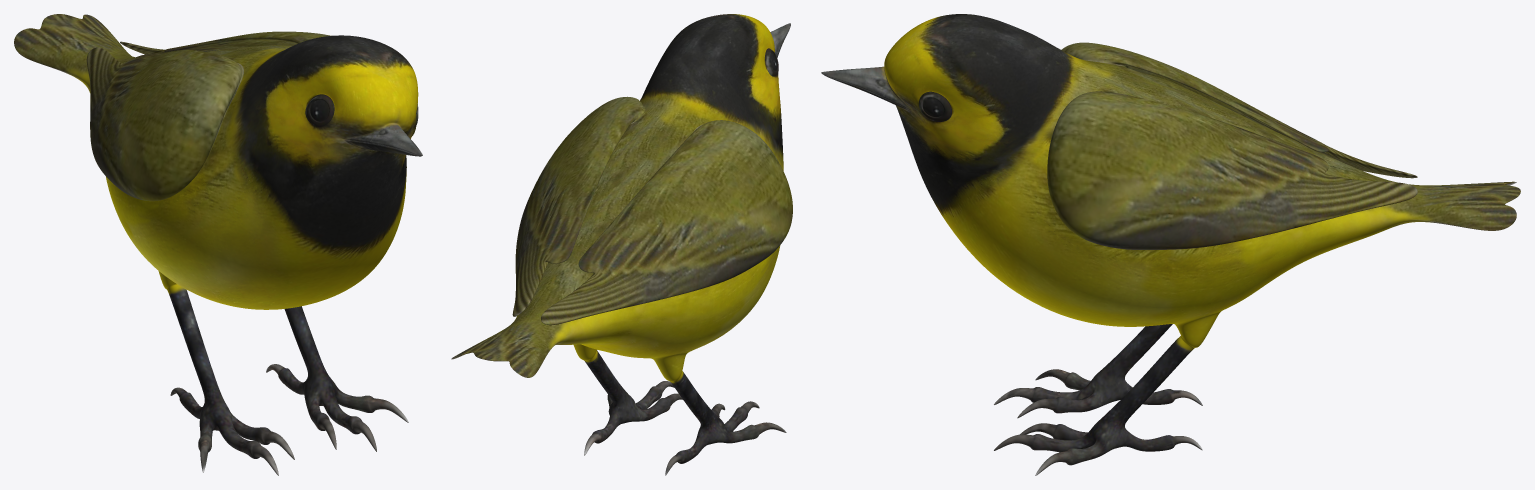
File: bird.fbx
3 renders of one model, left to right at view 1: azimuth 30°, elevation 25°; view 2: azimuth 150°, elevation 25°; view 3: azimuth 270°, elevation 25°, orthographic. The views are drawn at different scales.
Visible parts, largest first — view 1: 12214_Bird_v1max_l3.001; view 2: 12214_Bird_v1max_l3.001; view 3: 12214_Bird_v1max_l3.001.
Boxes of the visible parts, <box> form: 12214_Bird_v1max_l3.001: <box>14,14,422,475</box>; 12214_Bird_v1max_l3.001: <box>451,14,792,475</box>; 12214_Bird_v1max_l3.001: <box>821,14,1520,475</box>.
Size of the model in its own units: 6.11 by 9.17 by 14.17.
1 material, 1 textured.
